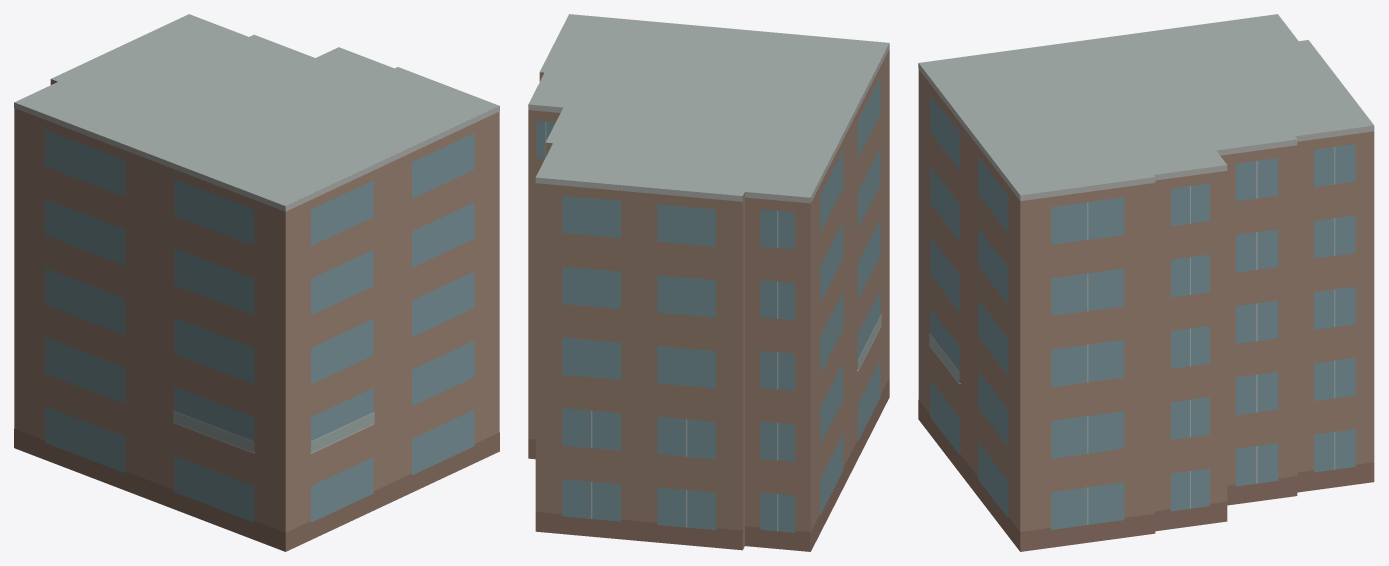
File: survey-upis-33047012.glb
3 renders of one model, left to right at view 1: azimuth 30°, elevation 25°; view 2: azimuth 150°, elevation 25°; view 3: azimuth 270°, elevation 25°, orthographic. The views are drawn at different scales.
Visible parts, largest first — view 1: survey-upis-33047012.tmp; view 2: survey-upis-33047012.tmp; view 3: survey-upis-33047012.tmp.
Part boxes in pixels (box(x1,y1,x2,y2)): survey-upis-33047012.tmp: box(14, 14, 499, 551); survey-upis-33047012.tmp: box(528, 14, 889, 551); survey-upis-33047012.tmp: box(918, 14, 1374, 551).
Bounding box in the file's own units: 16.66 × 15.25 × 17.69.
